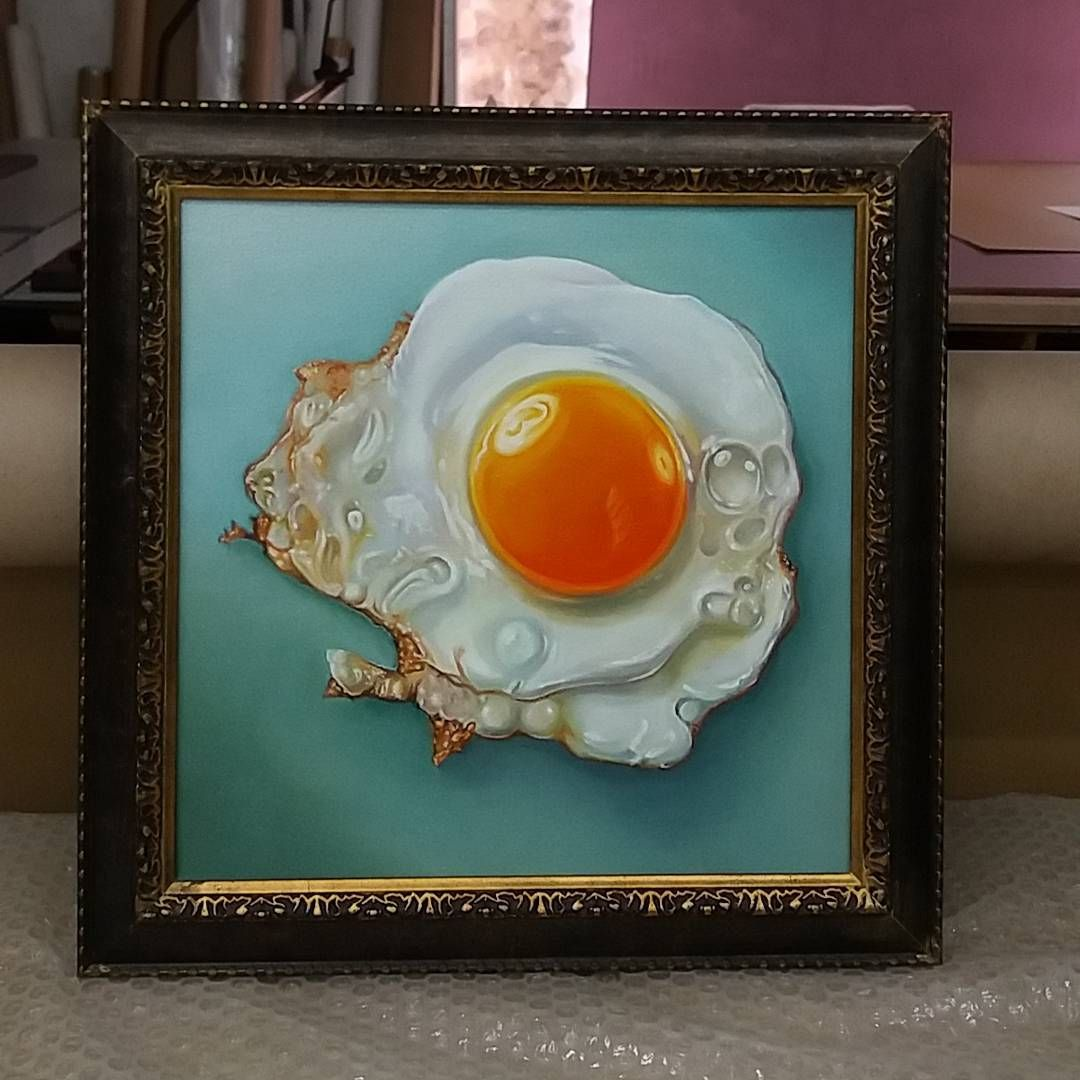lukisan: (78, 98, 947, 967)
